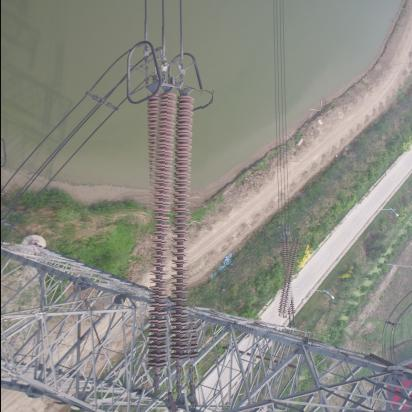insulator: (140, 89, 208, 394), (276, 239, 302, 320)
